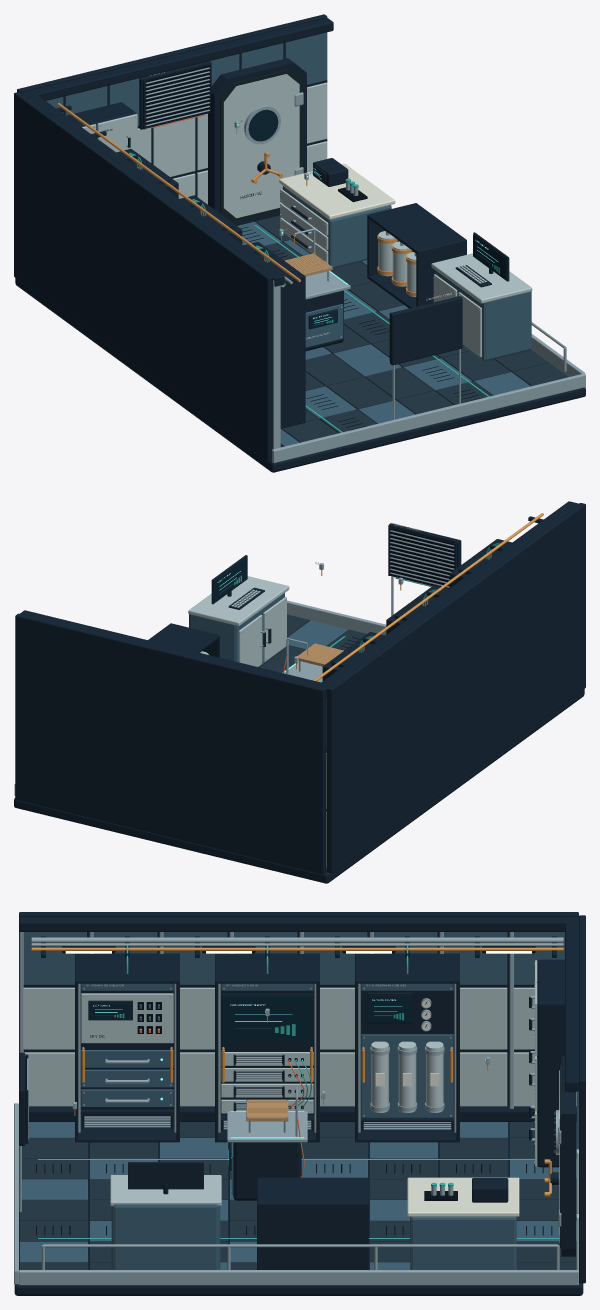
Rendered from habitat.glb.
The picture shows the model from 3 angles, top to bottom: view 1: azimuth 30°, elevation 25°; view 2: azimuth 150°, elevation 25°; view 3: azimuth 270°, elevation 25°; orthographic projection. The views are drawn at different scales.
Parts seen in each view (by area): view 1: port_shell_backing, hatch_door, floor_substructure, front_cut_edge, aft_crown_rail, vent_frame, rack_sidewall, hatch_outer_coaming, console_pedestal, bench_top, port_crown_rail, fluid_bay_end.001 (+51 smaller); view 2: aft_shell_backing, port_shell_backing, floor_substructure, port_crown_rail, vent_recess, console_worktop, aft_crown_rail, console_pedestal, front_cut_edge, fluid_bay_end.001, console_access_door.001, console_access_door (+8 smaller); view 3: starboard_cut_edge, port_crown_rail, floor_substructure, console_pedestal, fluid_bay_back, bench_cabinet, locker_shell, port_shell_backing, filter_background, avionics_display_glass, longitudinal_service_conduit, port_base_rail (+102 smaller).
Part boxes in pixels (box(x1,y1,x2,y2)): port_shell_backing: box(14, 92, 273, 462); hatch_door: box(223, 74, 299, 218); floor_substructure: box(15, 222, 585, 472); front_cut_edge: box(272, 373, 585, 463); aft_crown_rail: box(21, 18, 333, 100); vent_frame: box(390, 296, 462, 365); rack_sidewall: box(280, 277, 305, 428); hatch_outer_coaming: box(208, 58, 306, 225); console_pedestal: box(435, 270, 531, 361); bench_top: box(279, 163, 395, 219); port_crown_rail: box(23, 90, 284, 286); fluid_bay_end.001: box(367, 203, 466, 253); aft_shell_backing: box(15, 613, 325, 874); port_shell_backing: box(326, 503, 585, 873); floor_substructure: box(14, 620, 584, 883); port_crown_rail: box(317, 501, 578, 688); vent_recess: box(390, 528, 454, 588); console_worktop: box(188, 576, 289, 626); aft_crown_rail: box(20, 610, 330, 697); console_pedestal: box(189, 593, 284, 667); front_cut_edge: box(287, 600, 386, 635); fluid_bay_end.001: box(148, 624, 219, 652); console_access_door.001: box(263, 597, 286, 661); console_access_door: box(238, 615, 262, 666); starboard_cut_edge: box(19, 1270, 578, 1285); port_crown_rail: box(19, 917, 578, 931); floor_substructure: box(14, 1122, 583, 1295); console_pedestal: box(111, 1204, 220, 1269); fluid_bay_back: box(258, 1202, 367, 1269); bench_cabinet: box(410, 1216, 516, 1269); locker_shell: box(537, 959, 564, 1167); port_shell_backing: box(19, 912, 578, 1106); filter_background: box(361, 1034, 453, 1117); avionics_display_glass: box(222, 996, 311, 1040); longitudinal_service_conduit: box(31, 937, 563, 943); port_base_rail: box(29, 1106, 576, 1121).
Bounding box in the file's own units: 5.78 × 3.38 × 8.17.
